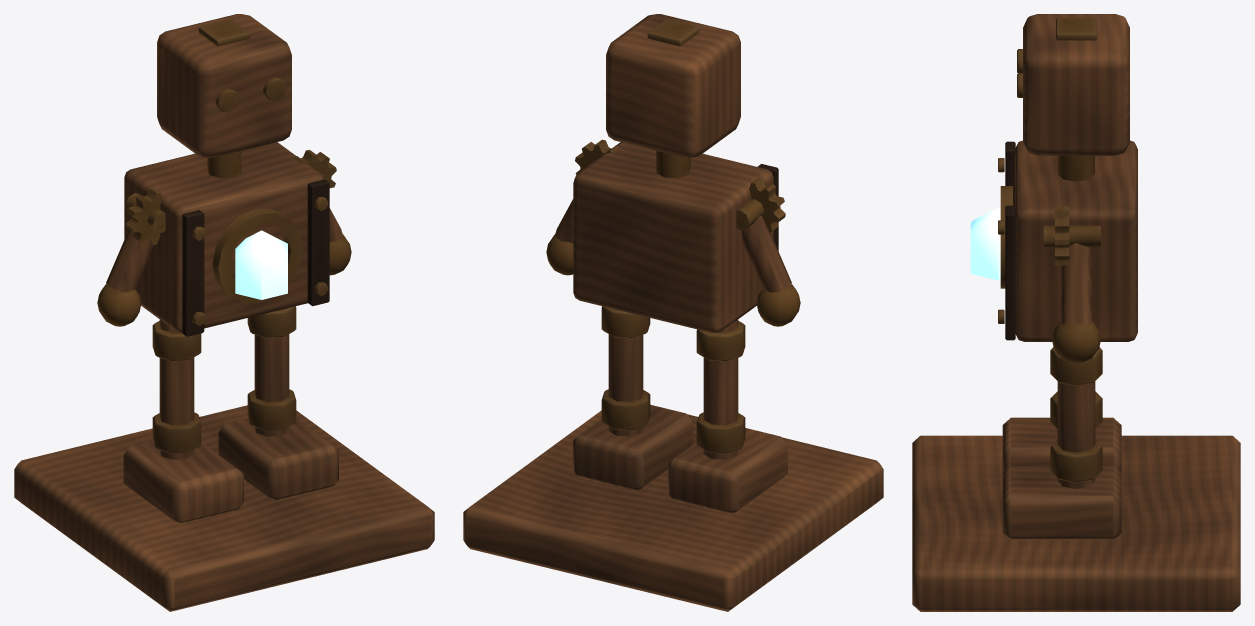
The model's file is Furn_Tool_Prototype.fbx.
3 views of the same model, side by side, from view 1: azimuth 30°, elevation 25°; view 2: azimuth 150°, elevation 25°; view 3: azimuth 270°, elevation 25° (orthographic). The views are drawn at different scales.
Visible parts, largest first — view 1: Furn_Tool_Prototype; view 2: Furn_Tool_Prototype; view 3: Furn_Tool_Prototype.
Part boxes in pixels (box(x1,y1,x2,y2)): Furn_Tool_Prototype: box(14, 14, 434, 611); Furn_Tool_Prototype: box(463, 14, 883, 611); Furn_Tool_Prototype: box(912, 14, 1240, 611).
Bounding box in the file's own units: 0.8 × 1.4 × 0.8.
4 materials, 3 textured.
